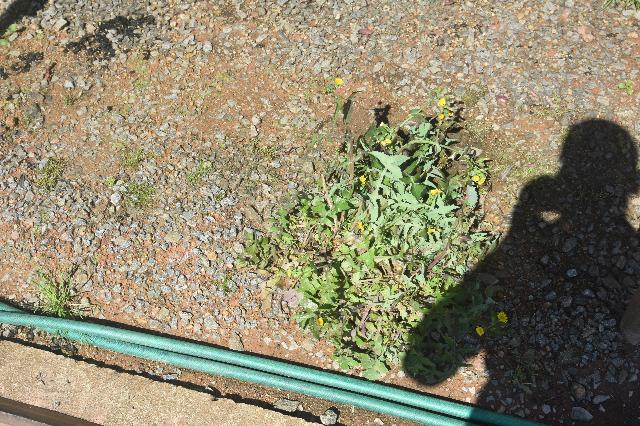MalezaMontesDelPlata: (322, 223, 491, 363), (330, 100, 479, 223), (246, 185, 342, 286), (29, 264, 97, 321)
